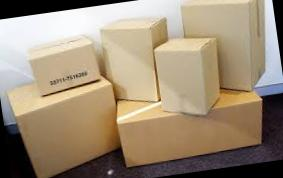cardboard: (174, 0, 283, 99), (88, 3, 183, 114), (143, 24, 226, 116), (15, 29, 108, 95)
